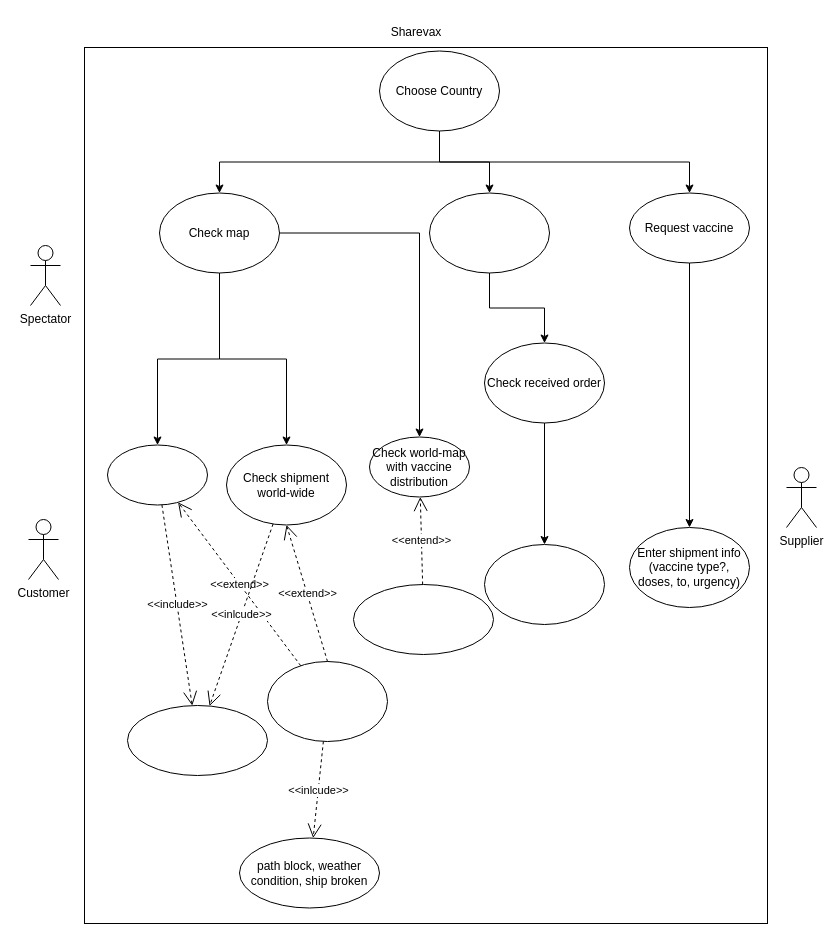
Some shapes in this 840 by 941 pixel diagram are drawn without their labels. The centre of each missing label's shape, as x and y in pixels:
Check route, start country, destination, urgency-level, in time estimation: [197,740]
Check shipement related to one country: [157,474]
Donate vaccine: [489,232]
Enter shipment info (vaccine type, doses, from, to, urgency?, in time?): [544,584]
hover over the country: doses in stack, consume rate per day: [423,619]
Report a problem: [327,701]
